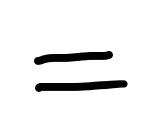eqv: (34, 51, 131, 92)
